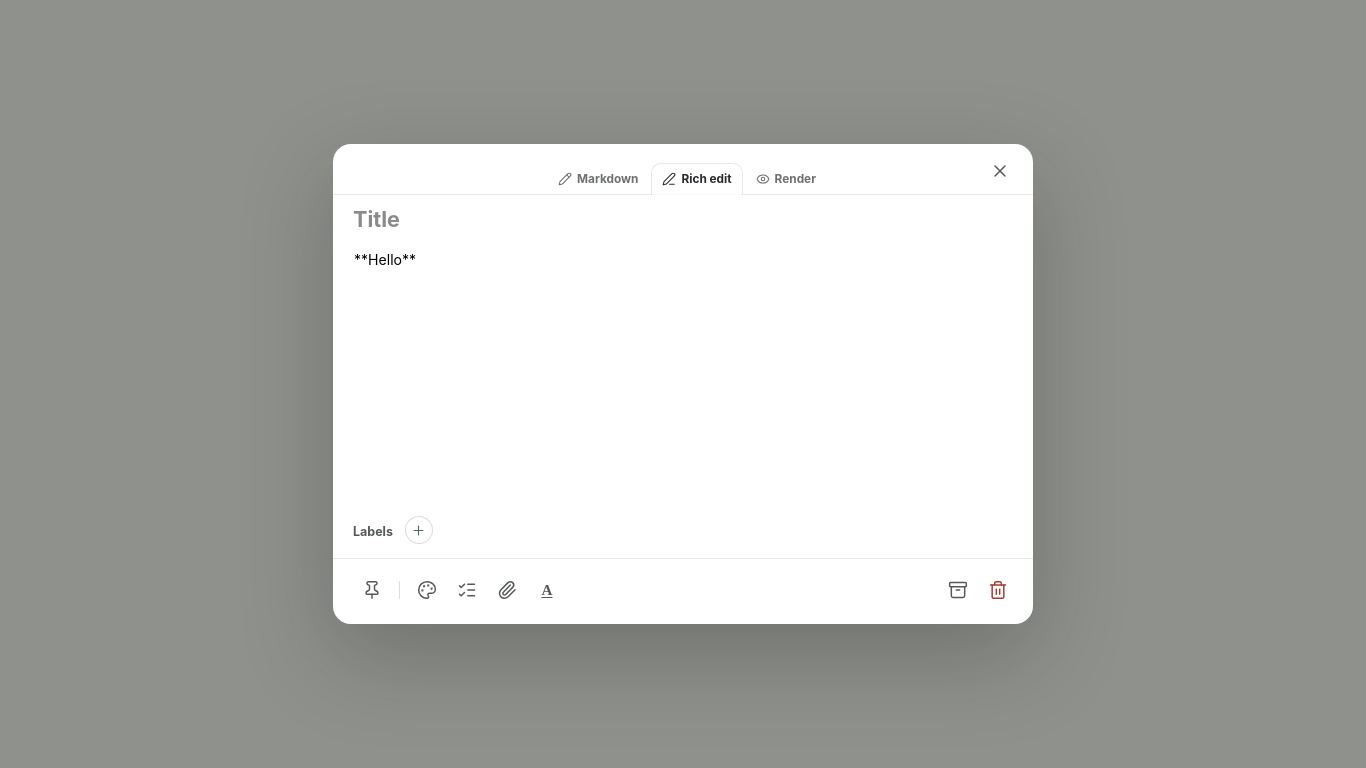
Scenario: NoteEditor › switches from render to rich edit when preview is clicked
Click the tab "Render" at (786, 179), box [745,163,827,195]
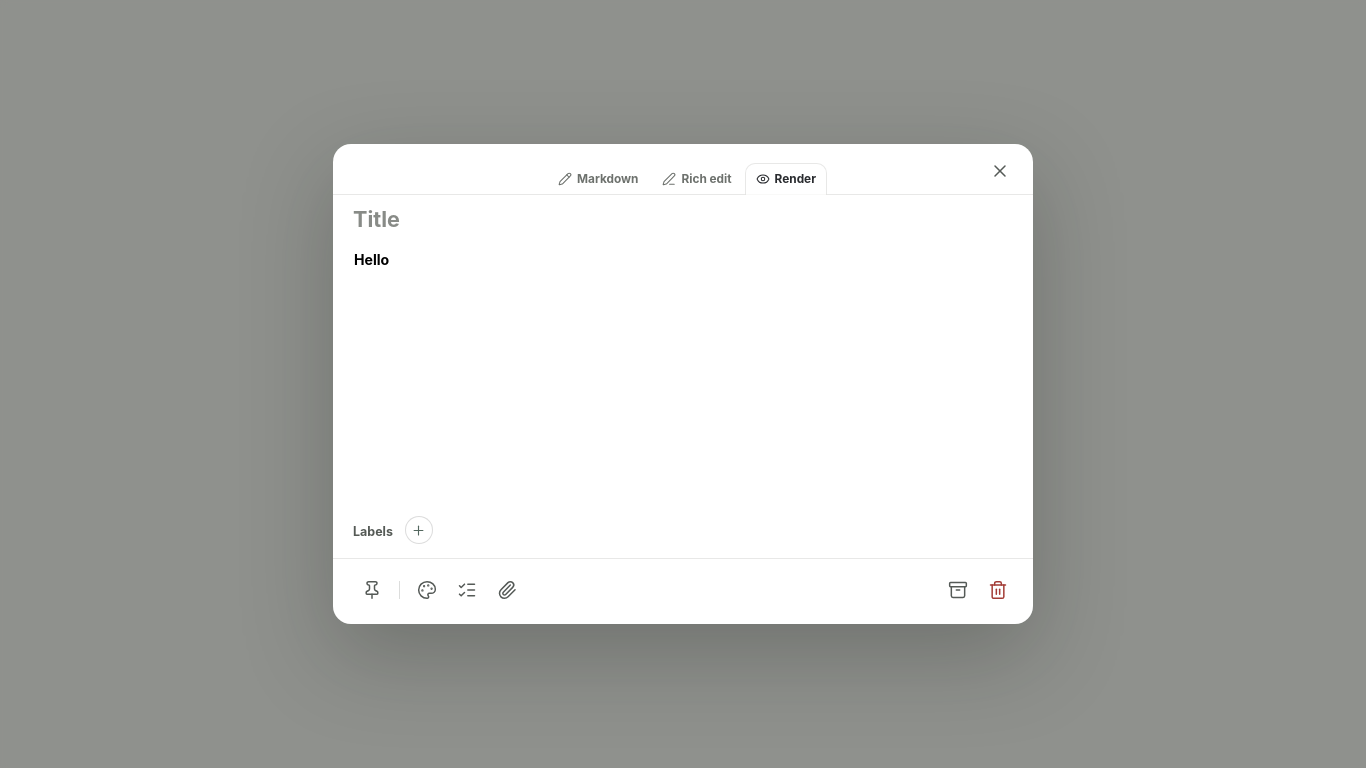
Check: the tab "Render" is selected, box [745,163,827,195]
Click the element named "Markdown preview" at (372, 260), box [354,251,389,268]
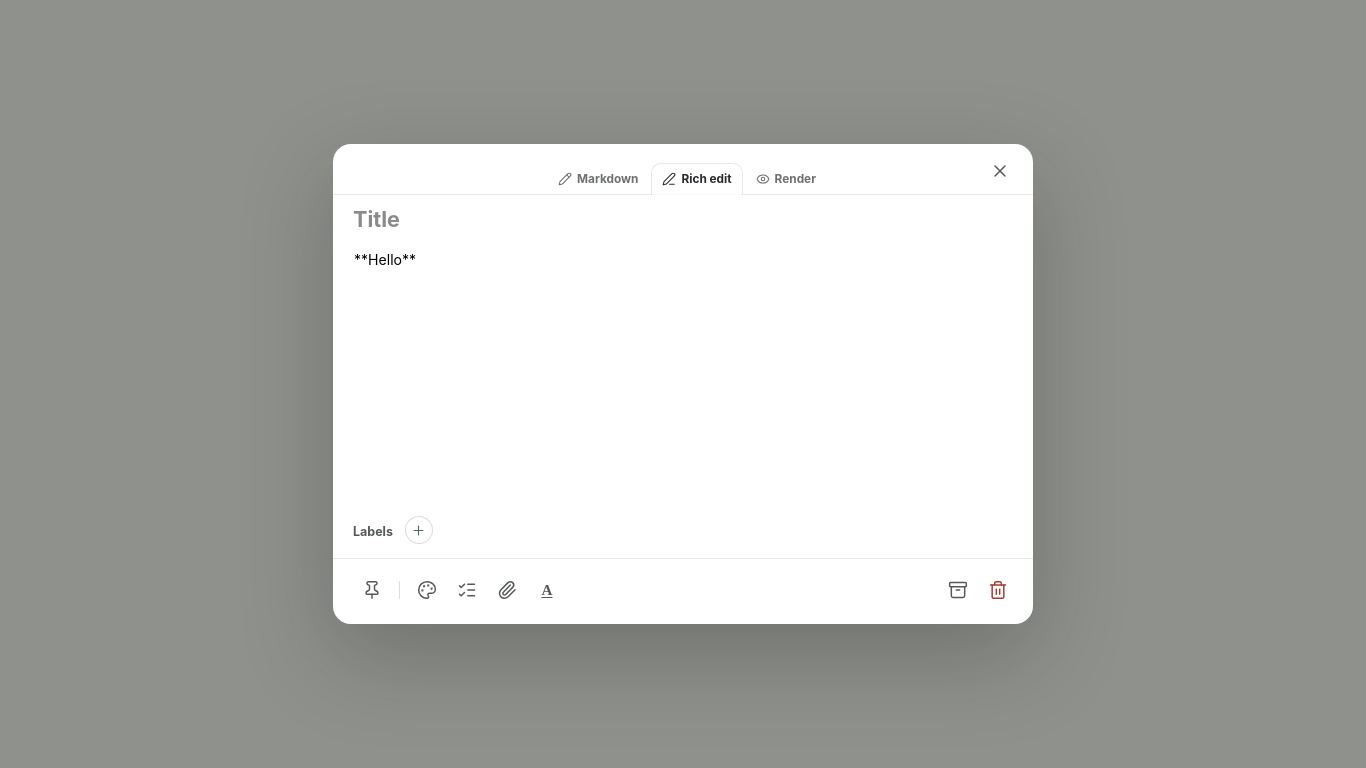
Check: the field named "Note content" is shown, box [354,251,416,268]
